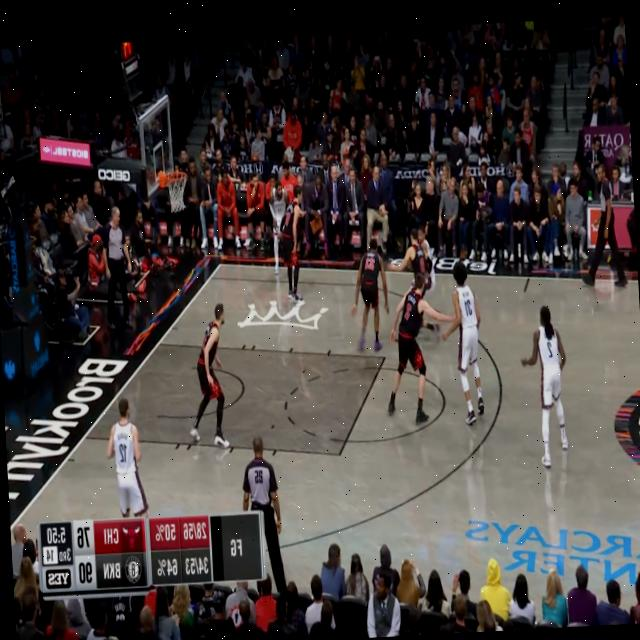no foul: (376, 260, 501, 426), (390, 217, 456, 342)
